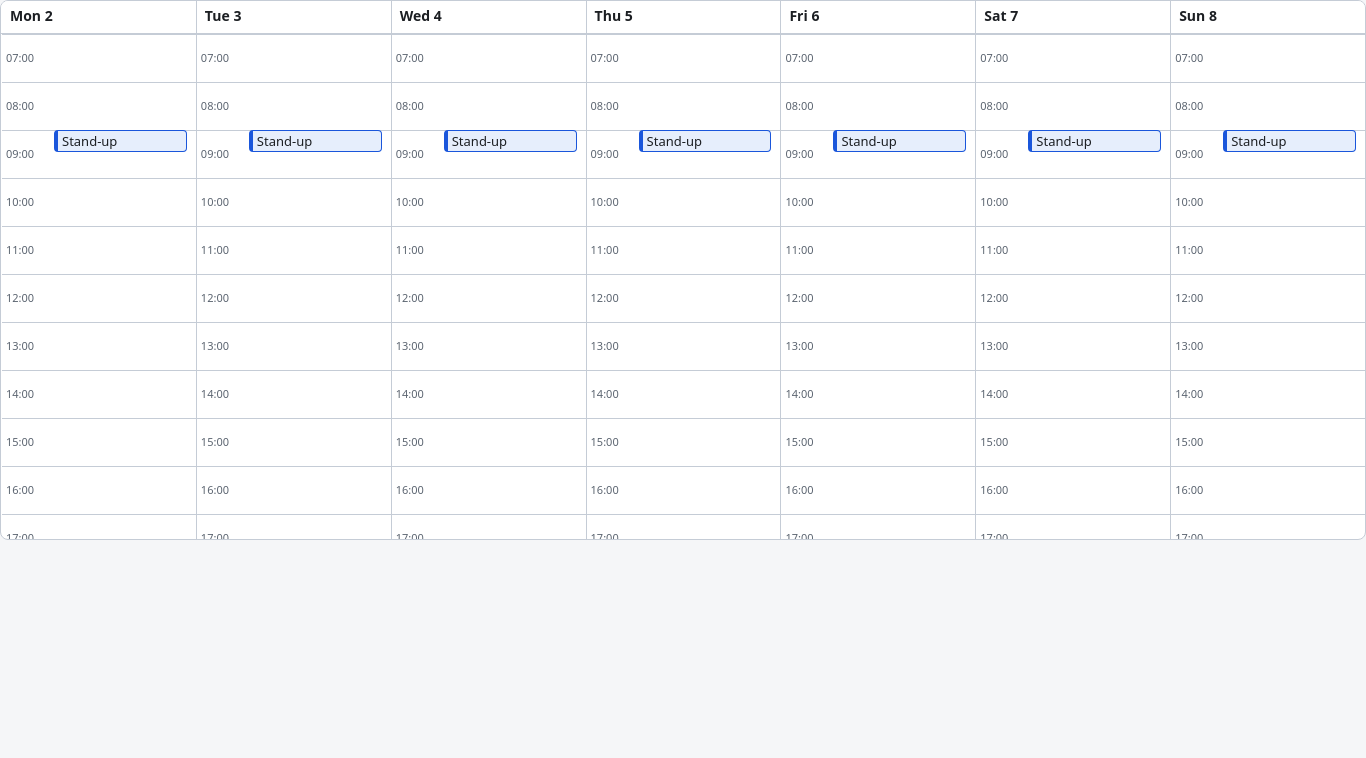
Scenario: Calendar: series › Delete with 'This event' cancels one day and keeps the series
The image size is (1366, 758).
(page scrolled)
Click the button with aria-label "Stand-up," at (315,141), box [249,130,382,152]
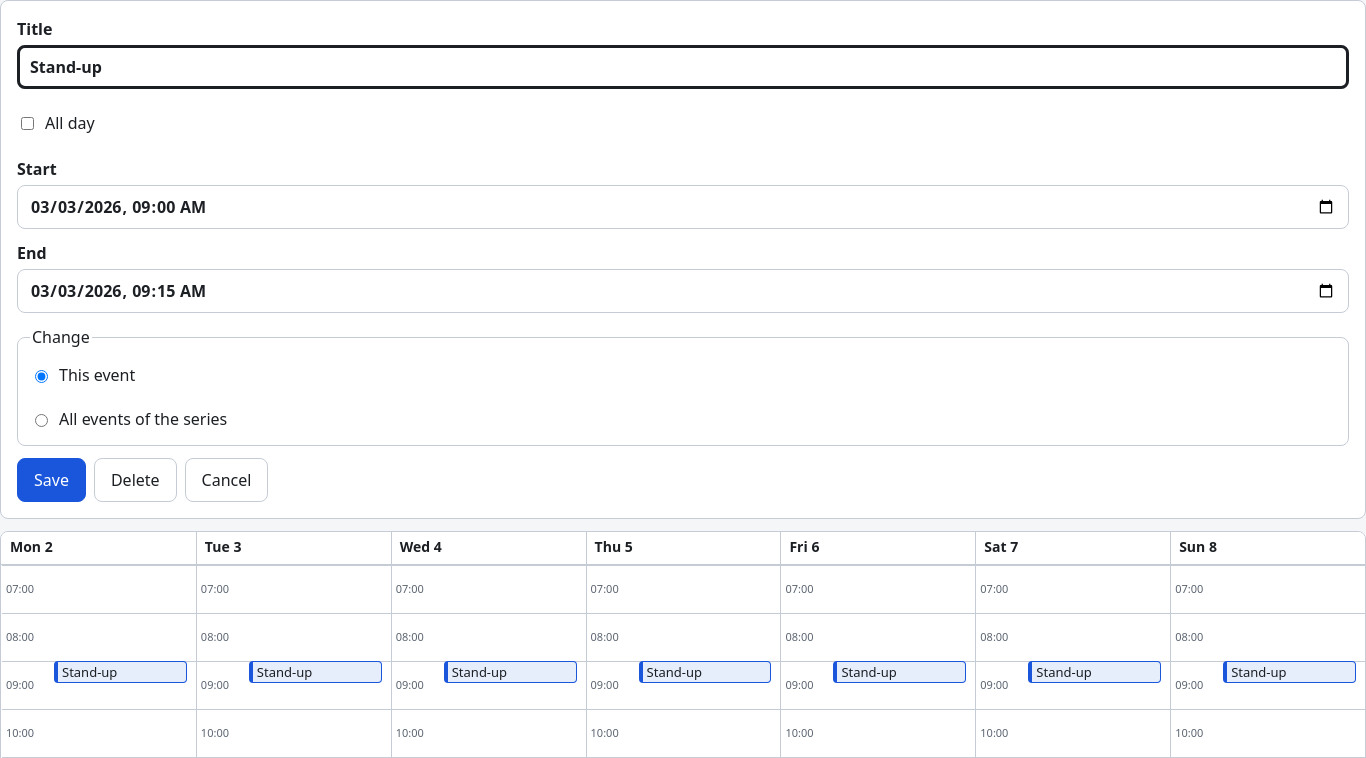
Click the button "Delete" at (135,480), box [94,458,177,502]
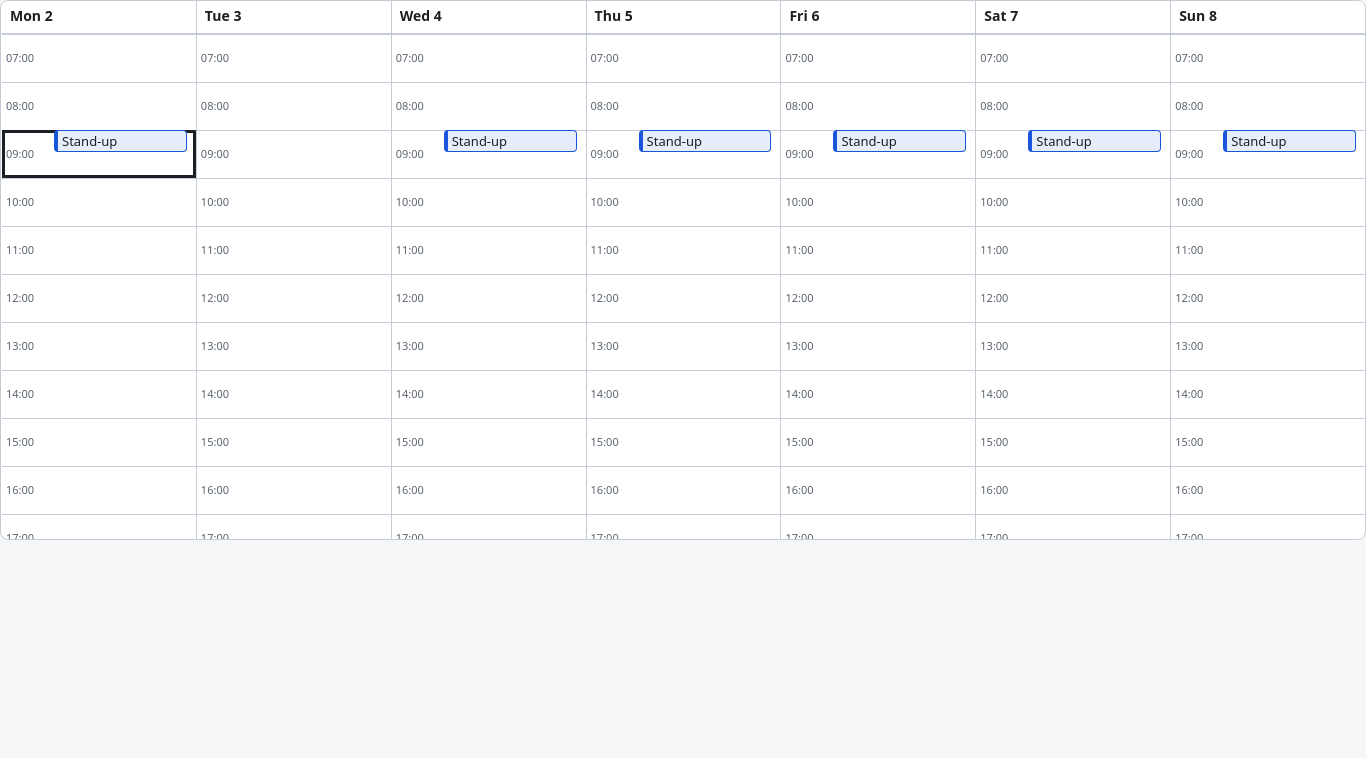
Check: the number of buttons named "Stand-up," is 6, box [54,130,187,152]; [444,130,577,152]; [639,130,772,152]; [833,130,966,152]; [1028,130,1161,152]; [1223,130,1356,152]
